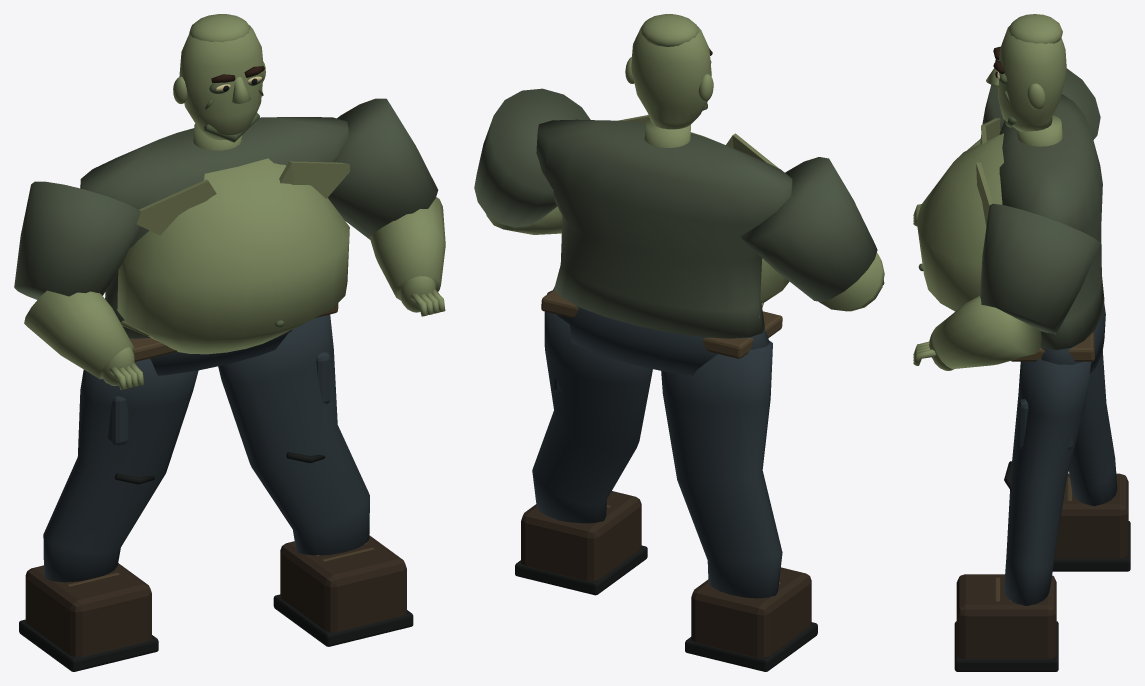
File: fatty.glb
The picture shows the model from 3 angles, left to right: view 1: azimuth 30°, elevation 25°; view 2: azimuth 150°, elevation 25°; view 3: azimuth 270°, elevation 25°; orthographic projection. The views are drawn at different scales.
Parts seen in each view (by area): view 1: fatty; view 2: fatty; view 3: fatty.
Part boxes in pixels (x1=…): fatty: x1=14, y1=14, x2=445, y2=671; fatty: x1=474, y1=14, x2=884, y2=671; fatty: x1=913, y1=14, x2=1130, y2=671.
Bounding box in the file's own units: 1.14 × 1.61 × 0.5438.
